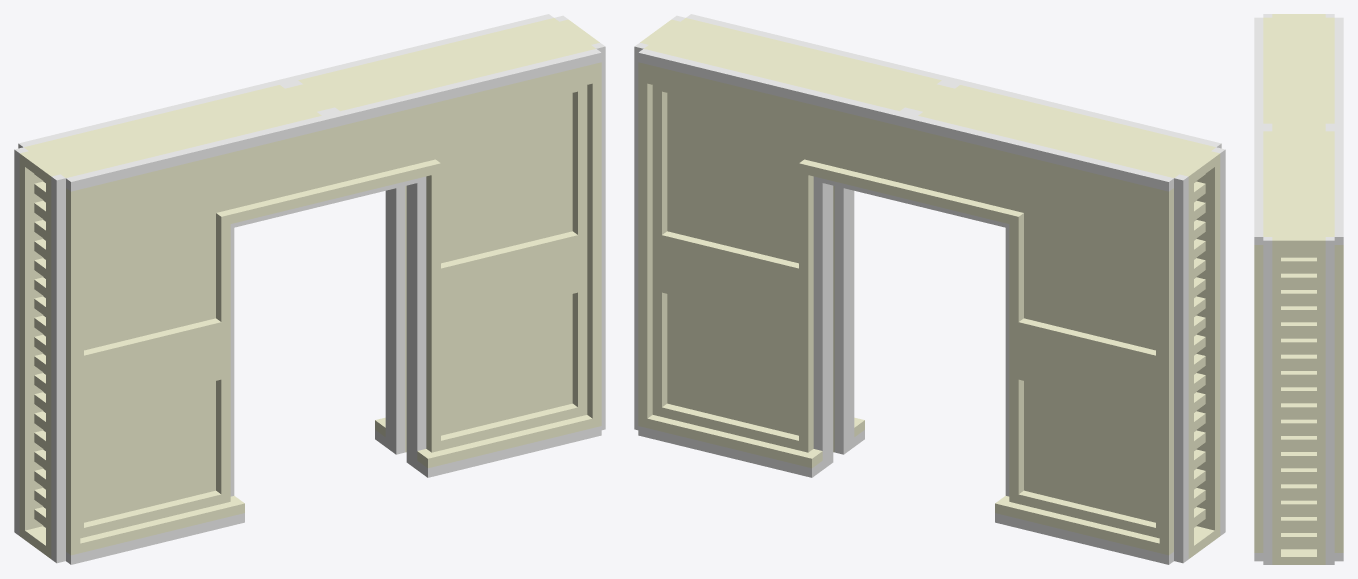
File: Med Bay Doorway.obj
3 views of the same model, side by side, from view 1: azimuth 30°, elevation 25°; view 2: azimuth 150°, elevation 25°; view 3: azimuth 270°, elevation 25° (orthographic). The views are drawn at different scales.
Bounding box in the file's own units: 60 × 40 × 10.
1 material, 1 textured.
